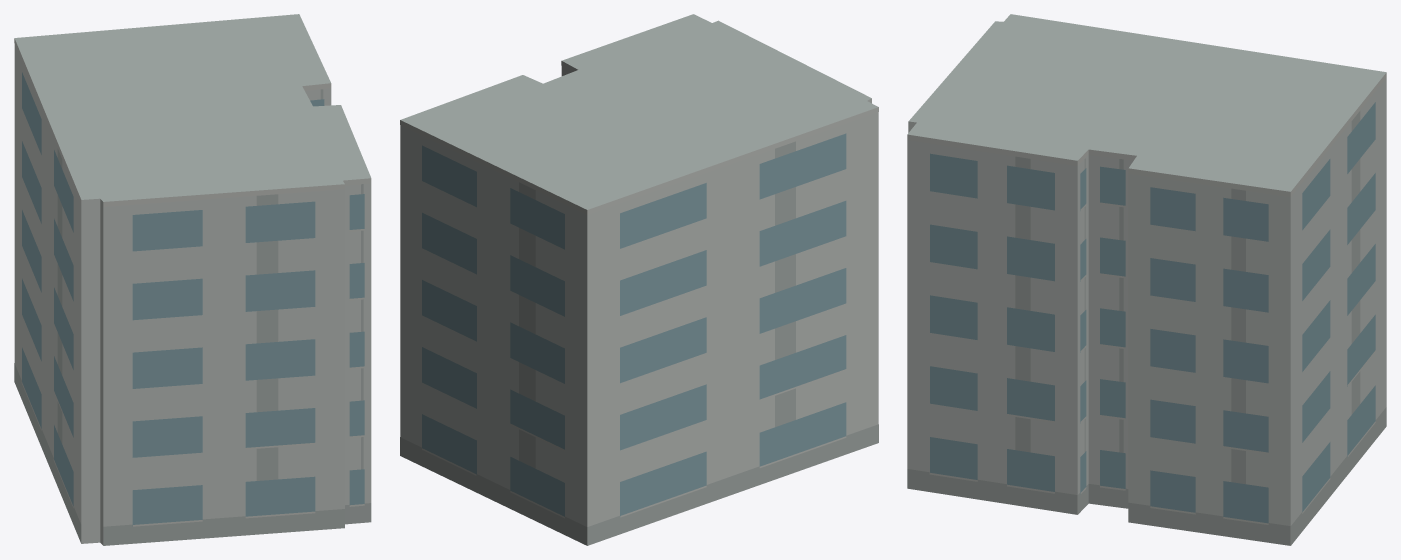
Rendered from survey-upis-33003159.glb.
3 renders of one model, left to right at view 1: azimuth 30°, elevation 25°; view 2: azimuth 150°, elevation 25°; view 3: azimuth 270°, elevation 25°, orthographic. The views are drawn at different scales.
Parts seen in each view (by area): view 1: survey-upis-33003159.tmp; view 2: survey-upis-33003159.tmp; view 3: survey-upis-33003159.tmp.
Boxes of the visible parts, x1,y1,x2,y2 form: survey-upis-33003159.tmp: [14, 14, 371, 545]; survey-upis-33003159.tmp: [400, 14, 878, 545]; survey-upis-33003159.tmp: [907, 14, 1386, 545].
Bounding box in the file's own units: 17.46 × 16.2 × 19.89.
